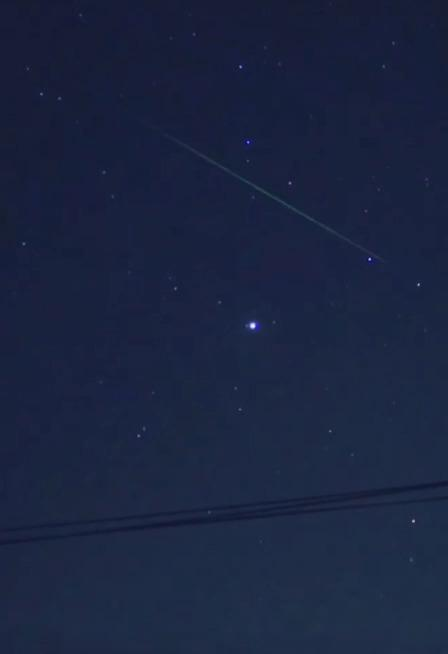meteorite: (141, 122, 343, 242)
